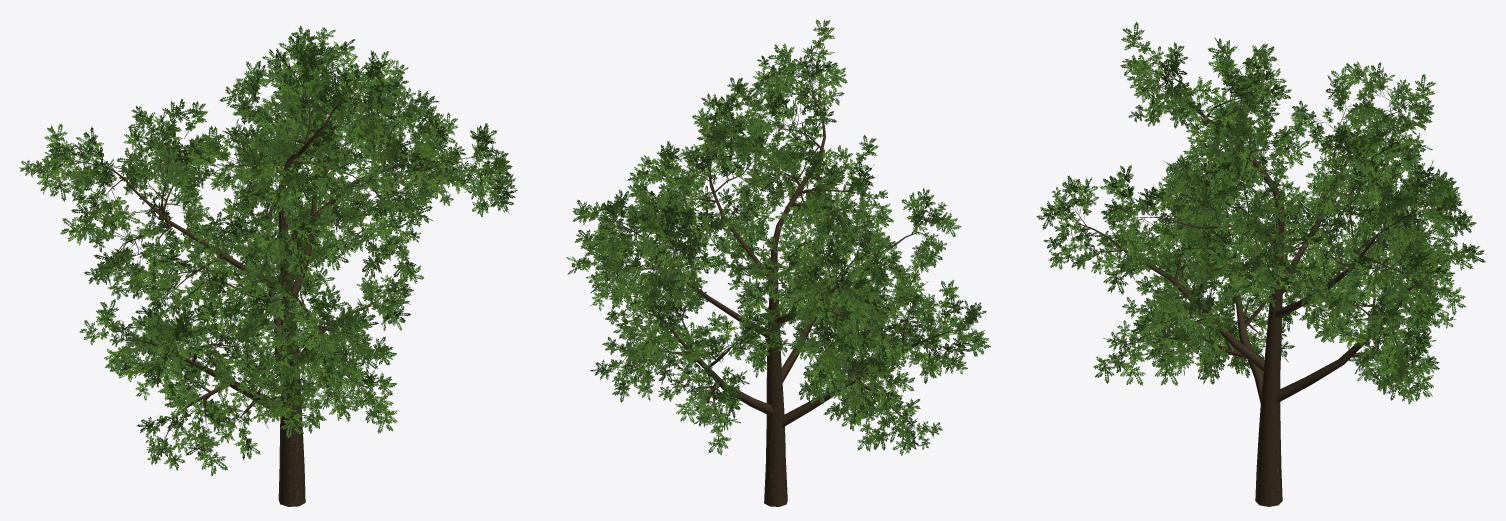
Rendered from guohuai.glb.
The picture shows the model from 3 angles, left to right: view 1: azimuth 30°, elevation 25°; view 2: azimuth 150°, elevation 25°; view 3: azimuth 270°, elevation 25°; orthographic projection. The views are drawn at different scales.
Parts seen in each view (by area): view 1: leaves, bark; view 2: leaves, bark; view 3: leaves, bark.
Boxes of the visible parts, x1,y1,x2,y2 form: leaves: (19, 25, 517, 475); bark: (54, 56, 494, 506); leaves: (566, 19, 990, 455); bark: (597, 62, 967, 506); leaves: (1036, 22, 1485, 403); bark: (1069, 64, 1432, 506).
Size of what is drawn, in the model's own units: 9.39 by 11 by 9.4.
2 materials, 2 textured.
